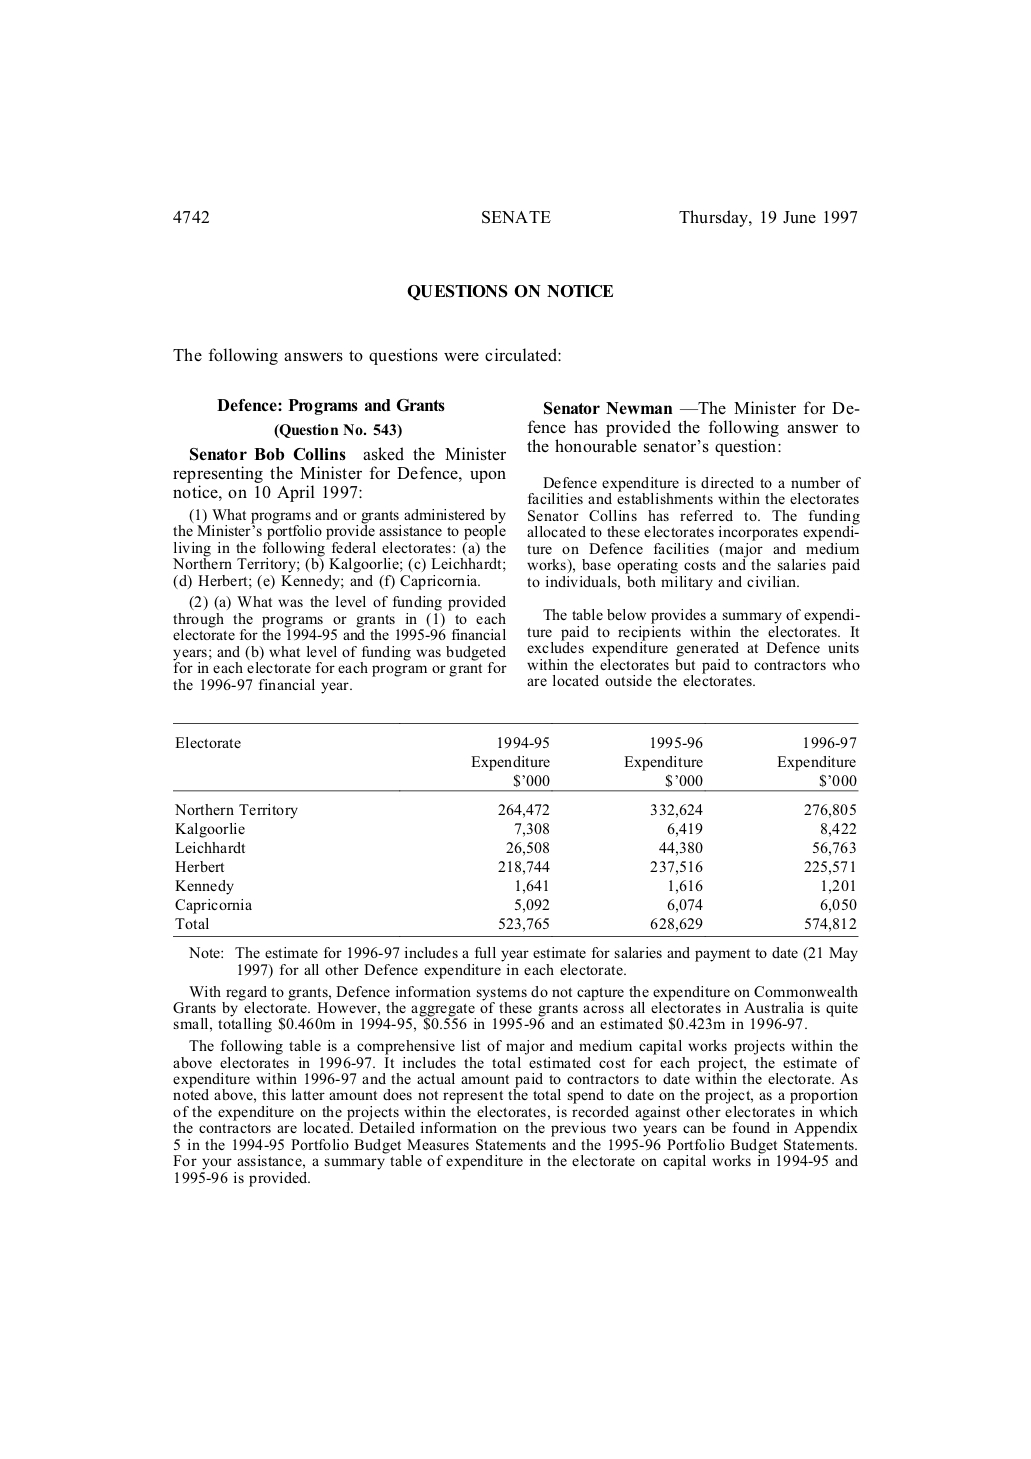Table: (173, 723, 858, 936)
